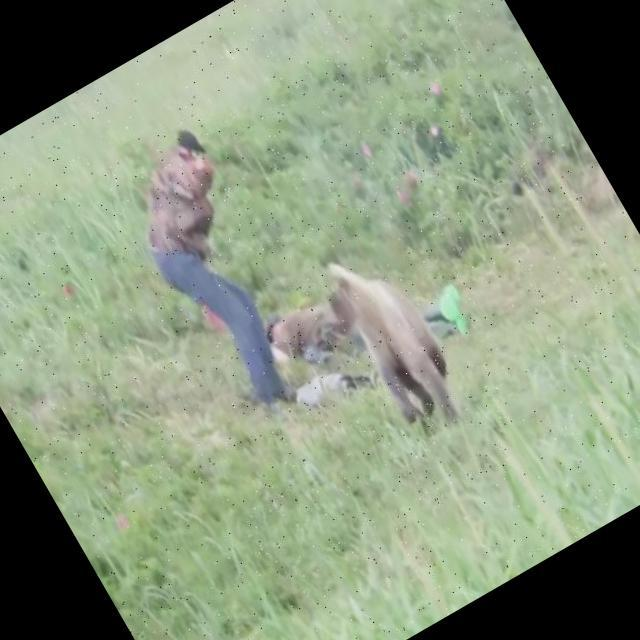person: (100, 120, 342, 430)
